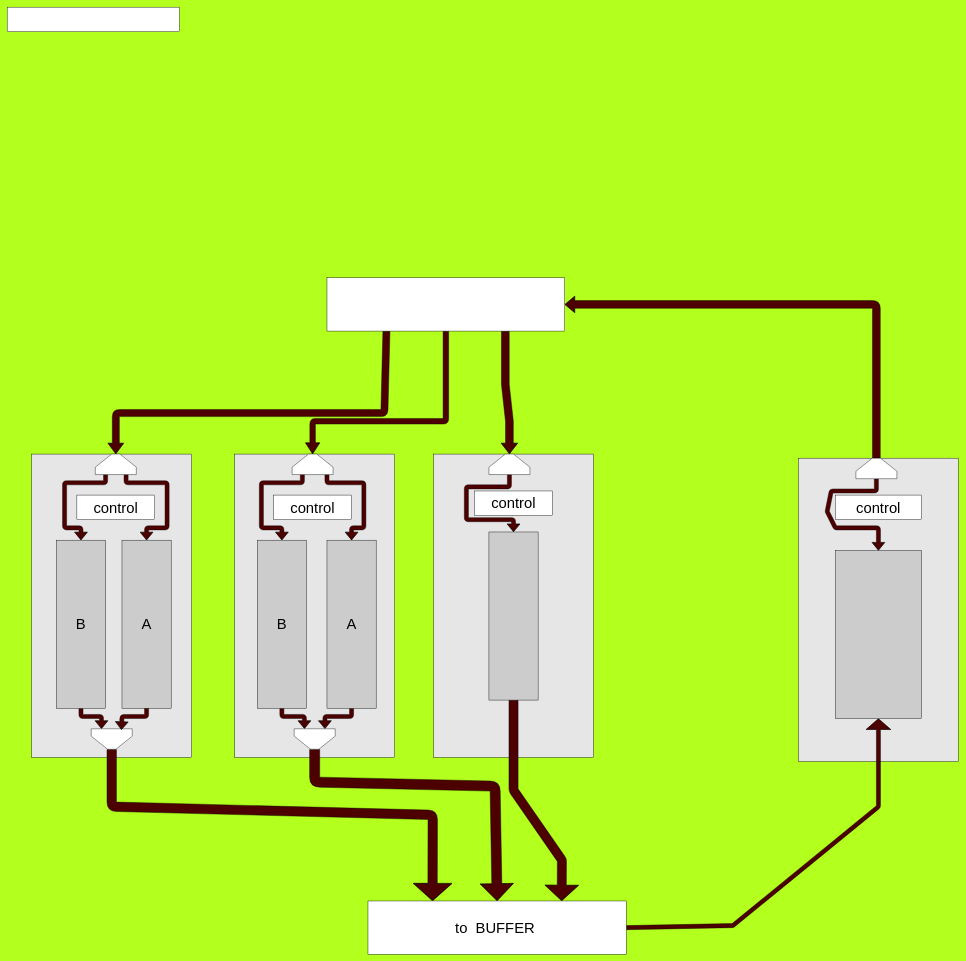
Image size: 966x961. Some labels were removed from this diagram. The shapes that lost their labels are listed below. From the top down, each one's centre as x and y in pixels, then its label:
At point (93, 19): "ping pong buffer".
At point (446, 304): "to scratch pad memory".
At point (513, 616): "bias buffer".
At point (878, 634): "output buffer".
